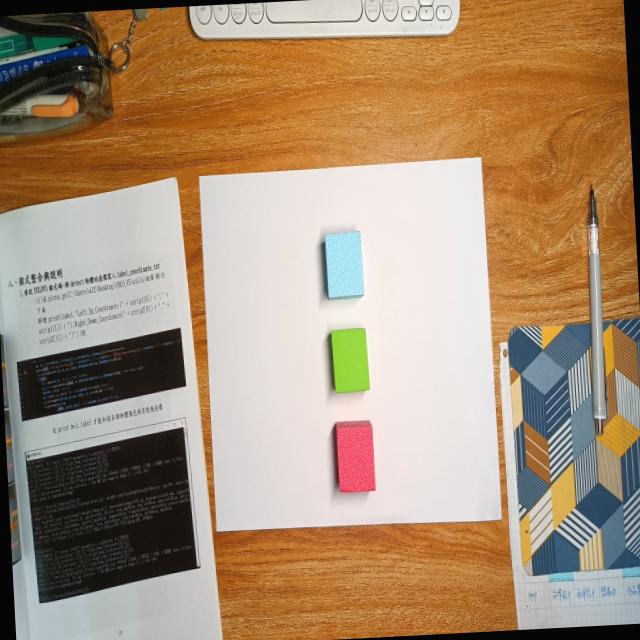BLUE: (323, 231, 365, 301)
GREEN: (330, 327, 370, 393)
RED: (335, 421, 376, 493)
